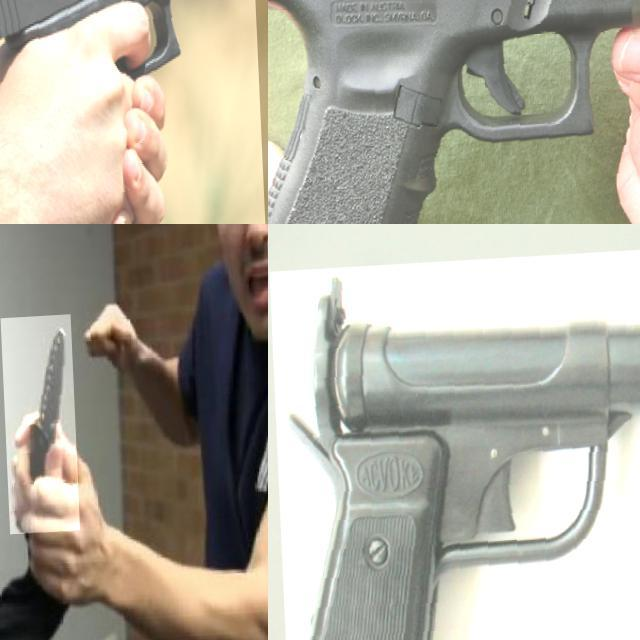-: (0, 319, 76, 539)
gun-knife-thesis - v11 Yolov5 augmented: (268, 243, 640, 640), (268, 0, 640, 224), (0, 0, 263, 224)
